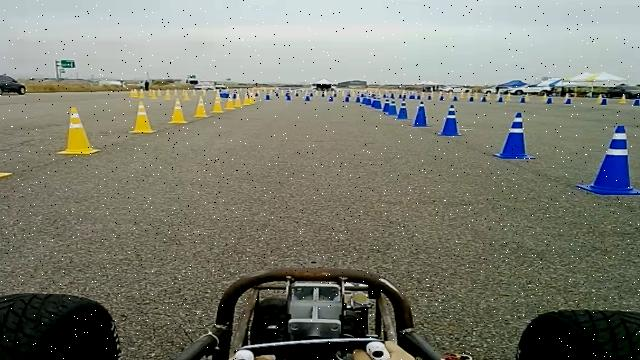blue cone: (575, 124, 640, 195), (492, 112, 536, 159), (438, 103, 463, 136), (411, 101, 432, 127), (396, 100, 410, 120)
yellow cone: (56, 106, 102, 156), (129, 100, 157, 134), (0, 115, 13, 182), (168, 97, 189, 124), (193, 97, 210, 117), (211, 95, 225, 113), (70, 107, 82, 126), (244, 90, 257, 105), (226, 97, 236, 110), (234, 94, 243, 107), (248, 96, 258, 104)
